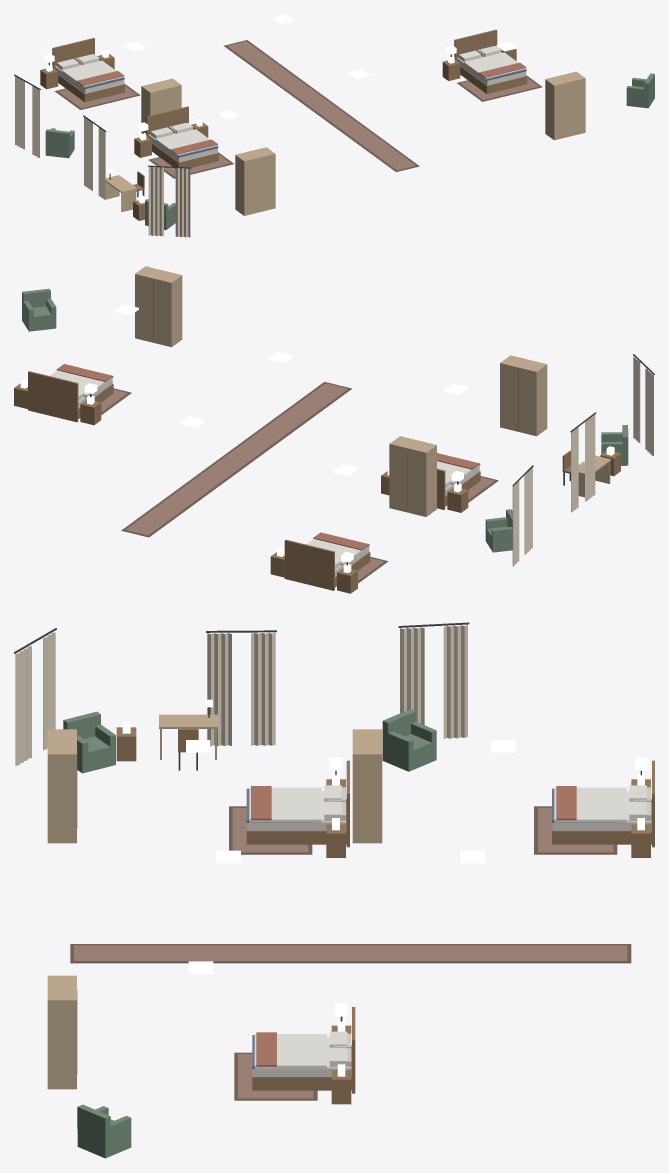
Rendered from fine-s2.glb.
3 views of the same model, one above another, from view 1: azimuth 30°, elevation 25°; view 2: azimuth 150°, elevation 25°; view 3: azimuth 270°, elevation 25° (orthographic). The views are drawn at different scales.
Parts seen in each view (by area): view 1: soft-s2, dresser.003, dresser.005, bed-frame.003, bed-frame.004, bed-frame.005, dresser.004, writing-desk.001, lounge-chair.003, lounge-chair.004, lounge-chair.005, nightstand.008 (+2 smaller); view 2: soft-s2, dresser.004, dresser.005, dresser.003, bed-frame.004, bed-frame.003, lounge-chair.003, lounge-chair.004, bed-frame.005, lounge-chair.005, writing-desk.001, nightstand.006 (+2 smaller); view 3: soft-s2, dresser.004, dresser.005, dresser.003, lounge-chair.004, bed-frame.005, bed-frame.004, bed-frame.003, lounge-chair.003, lounge-chair.005, writing-desk.001, nightstand.007 (+1 smaller).
Boxes of the visible parts, x1,y1,x2,y2 form: soft-s2: [14, 40, 542, 237]; dresser.003: [545, 71, 585, 140]; dresser.005: [235, 147, 275, 215]; bed-frame.003: [454, 29, 527, 93]; bed-frame.004: [52, 38, 124, 102]; bed-frame.005: [146, 106, 218, 168]; dresser.004: [141, 78, 181, 133]; writing-desk.001: [105, 168, 137, 211]; lounge-chair.003: [626, 73, 654, 108]; lounge-chair.004: [45, 128, 74, 158]; lounge-chair.005: [145, 199, 175, 230]; nightstand.008: [40, 64, 58, 89]; soft-s2: [50, 354, 654, 583]; dresser.004: [389, 436, 436, 516]; dresser.005: [500, 355, 547, 436]; dresser.003: [135, 266, 182, 347]; bed-frame.004: [284, 539, 370, 590]; bed-frame.003: [28, 371, 113, 422]; lounge-chair.003: [22, 288, 56, 331]; lounge-chair.004: [485, 509, 512, 552]; bed-frame.005: [437, 463, 480, 509]; lounge-chair.005: [601, 425, 628, 465]; writing-desk.001: [578, 455, 611, 497]; nightstand.006: [80, 395, 101, 425]; soft-s2: [14, 622, 648, 1100]; dresser.004: [352, 729, 382, 843]; dresser.005: [47, 729, 77, 843]; dresser.003: [47, 975, 77, 1089]; lounge-chair.004: [382, 709, 436, 771]; bed-frame.005: [246, 760, 349, 847]; bed-frame.004: [552, 760, 654, 847]; bed-frame.003: [252, 1007, 355, 1093]; lounge-chair.003: [77, 1104, 131, 1158]; lounge-chair.005: [63, 711, 115, 773]; writing-desk.001: [159, 699, 217, 759]; nightstand.007: [331, 1064, 351, 1104].
Size of the model in its own units: 20.27 by 2.61 by 13.06.
